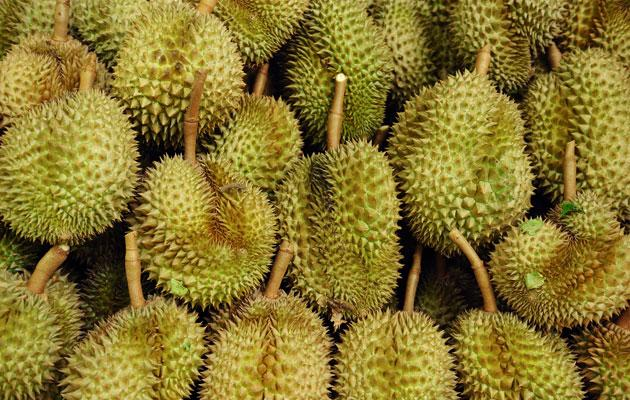sau_rieng: (393, 70, 530, 256), (278, 137, 401, 318), (135, 150, 279, 304)
